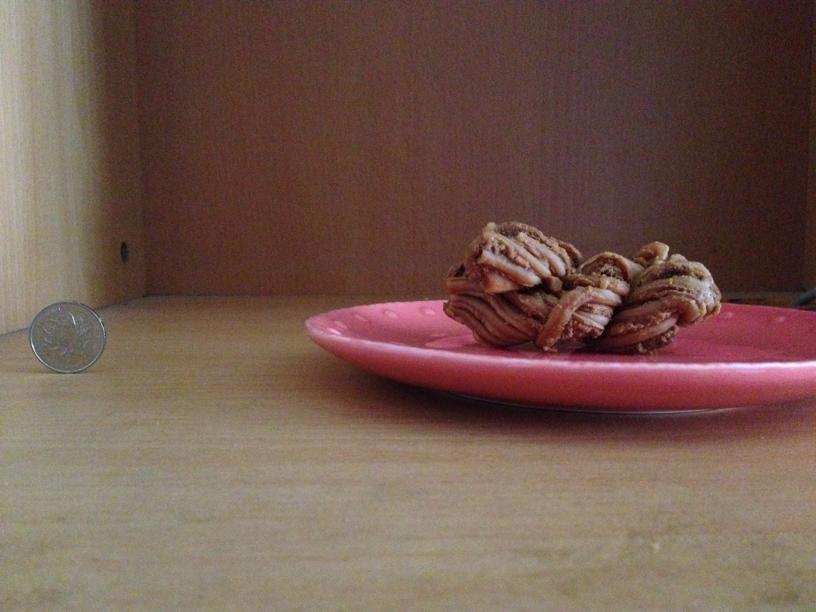coin: (27, 302, 105, 374)
fired_dough_twist: (440, 218, 722, 351)
